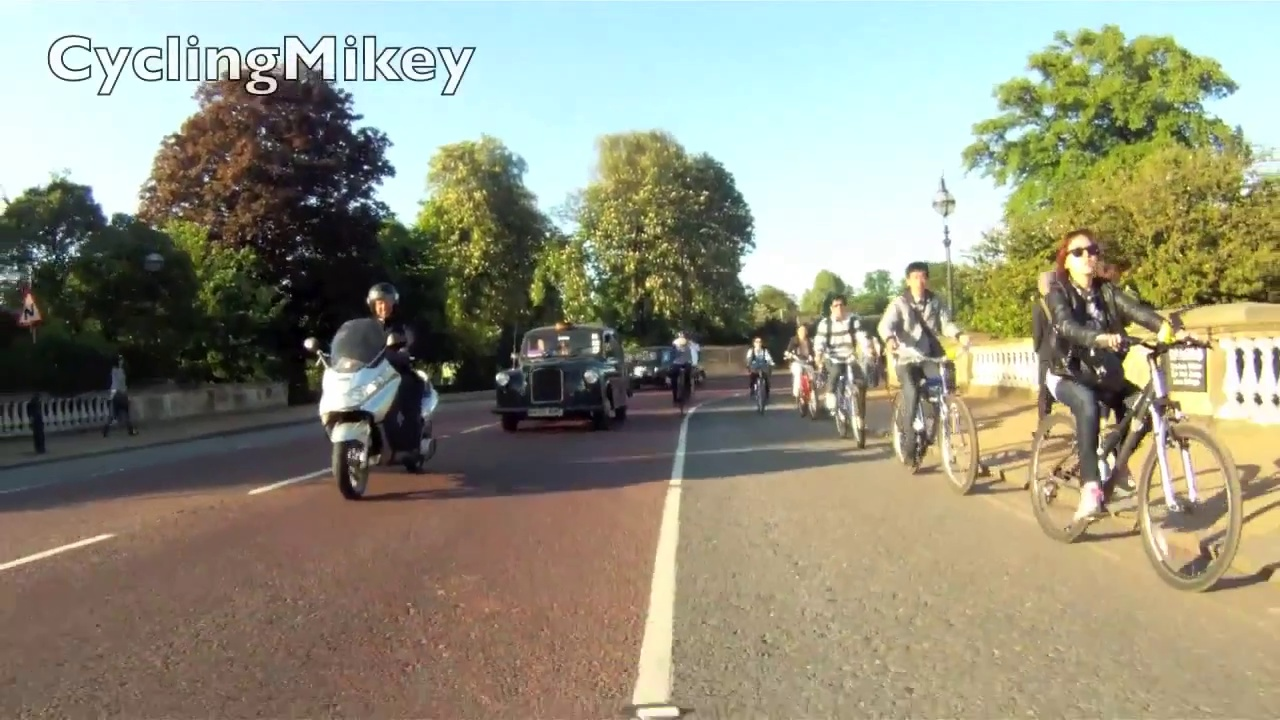cyclist_front: (1025, 206, 1245, 594), (305, 258, 436, 505), (886, 260, 989, 499), (817, 296, 880, 456), (789, 320, 828, 418), (741, 326, 778, 419)
